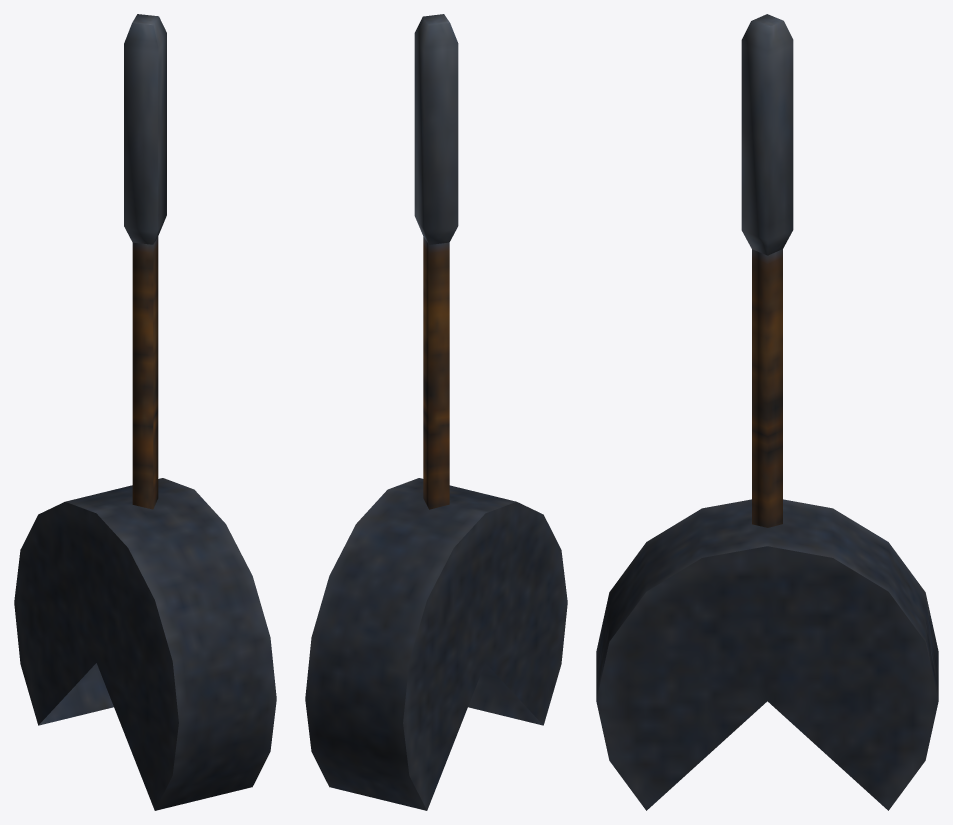
The model's file is lever_arm.obj.
The picture shows the model from 3 angles, left to right: view 1: azimuth 30°, elevation 25°; view 2: azimuth 150°, elevation 25°; view 3: azimuth 270°, elevation 25°; orthographic projection. The views are drawn at different scales.
Visible parts, largest first — view 1: lever; view 2: lever; view 3: lever.
Part boxes in pixels (x1,y1,x2,y2): lever: (14,14,276,810); lever: (305,14,567,810); lever: (596,14,938,810).
Size of the model in its own units: 0.1951 by 1.4 by 0.569.
Materials: 1 (1 with a texture image).
